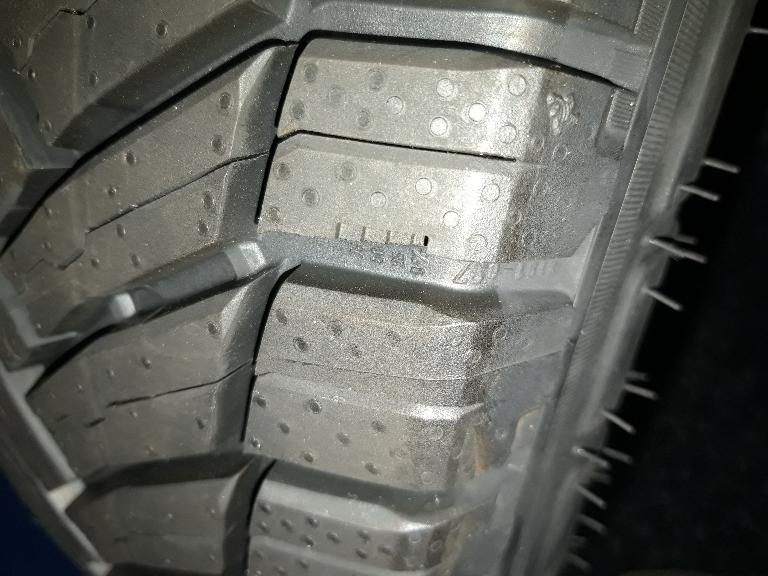temoin:100: (312, 220, 432, 258)
